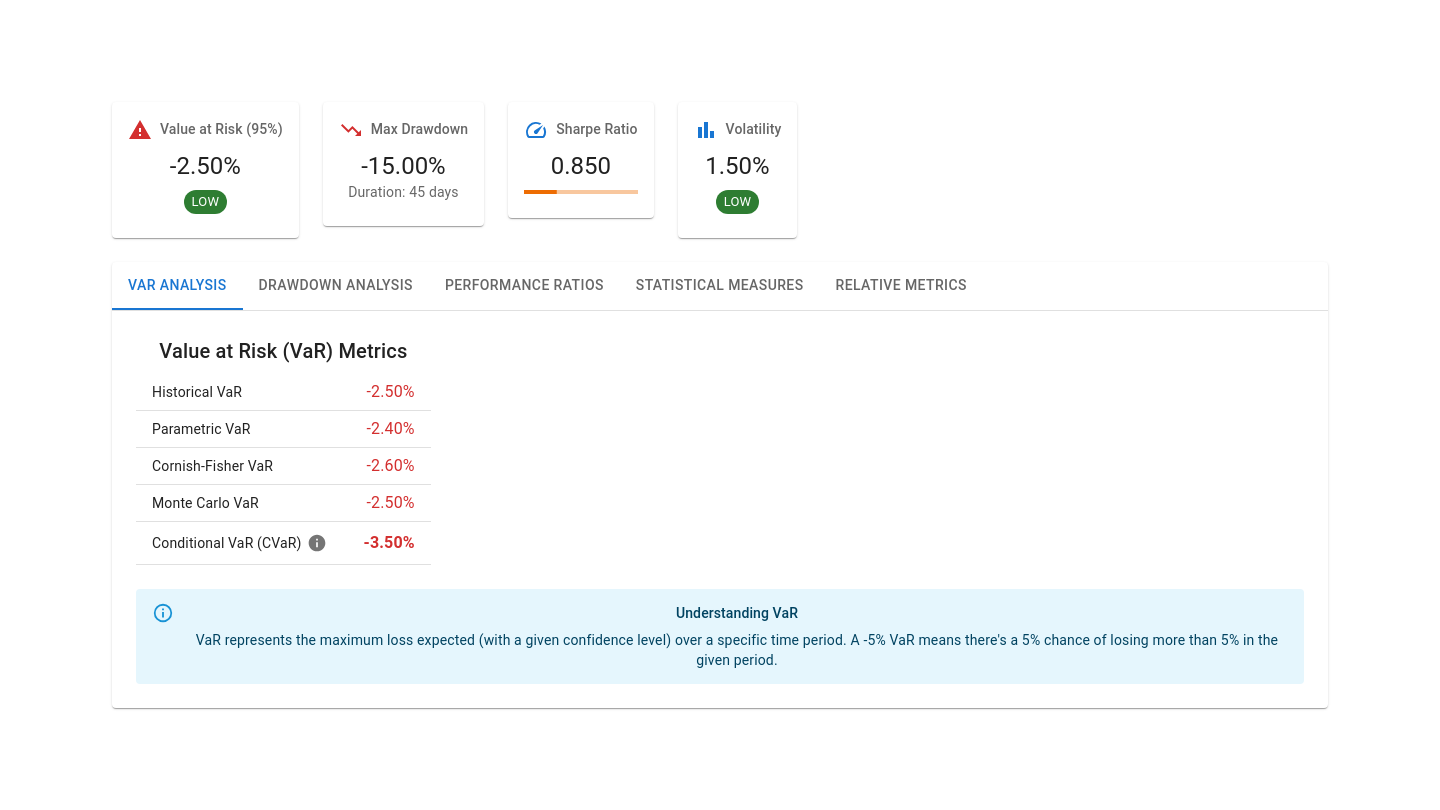
Scenario: RiskAnalysis › switches tabs when clicked
Click the tab "Performance Ratios".
click(524, 286)  # box [429, 262, 620, 310]
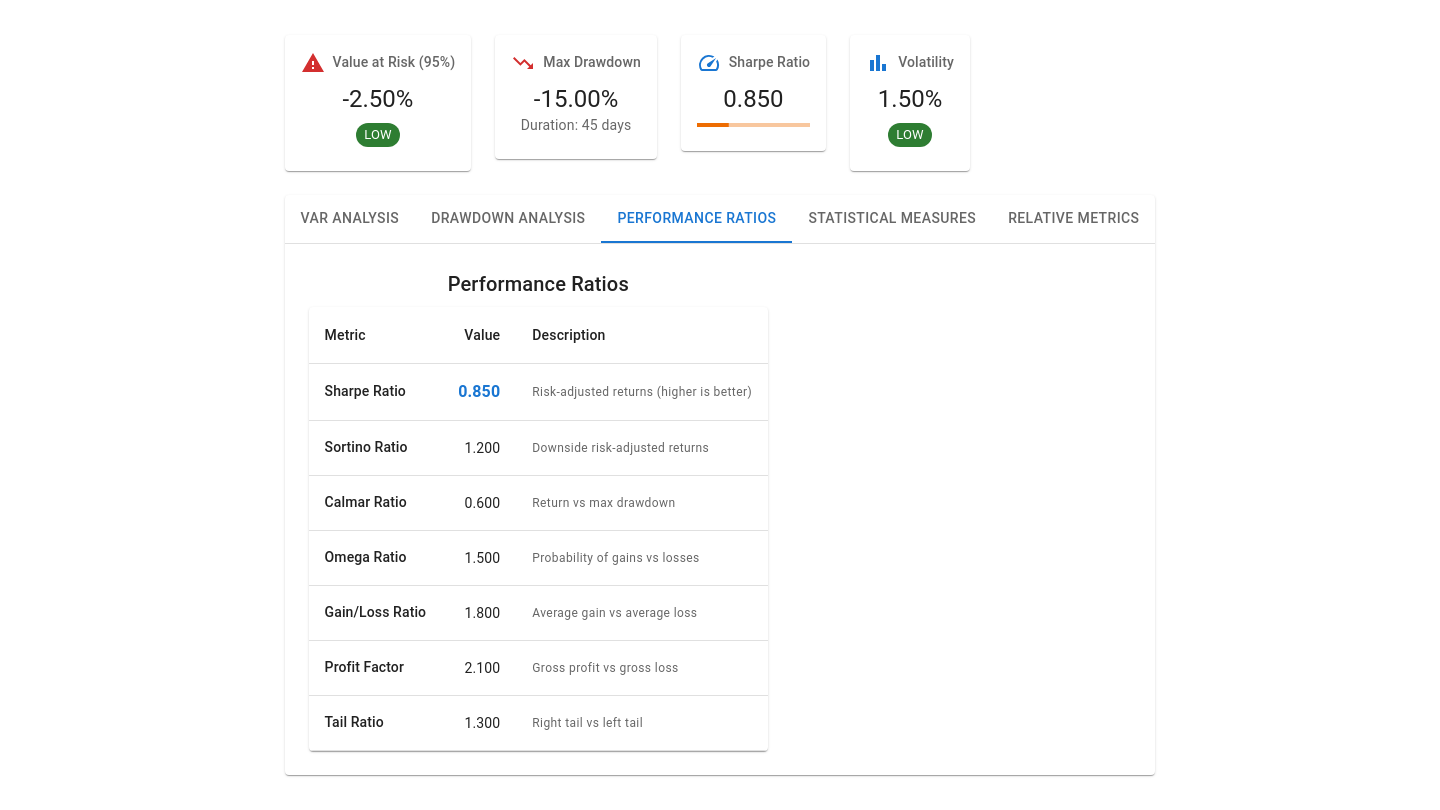
Now the text "Risk-adjusted returns (higher is better)" is shown, box [532, 385, 752, 399]
